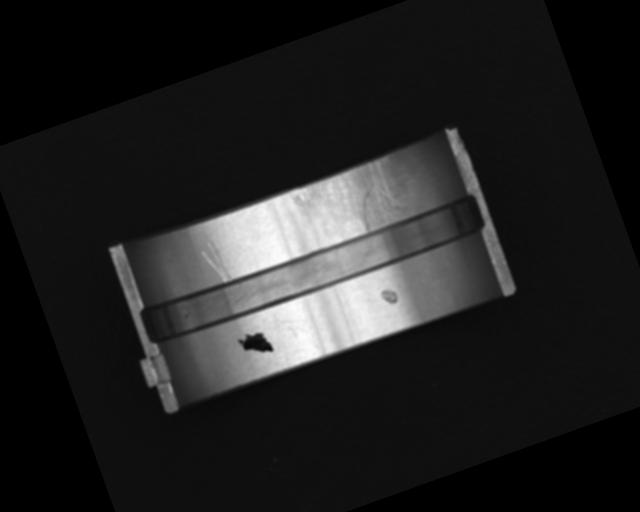blot: (236, 326, 275, 361)
bruise: (378, 285, 401, 308)
gap: (136, 191, 488, 351)
nick: (198, 236, 232, 286)
scratch: (289, 150, 421, 252)
